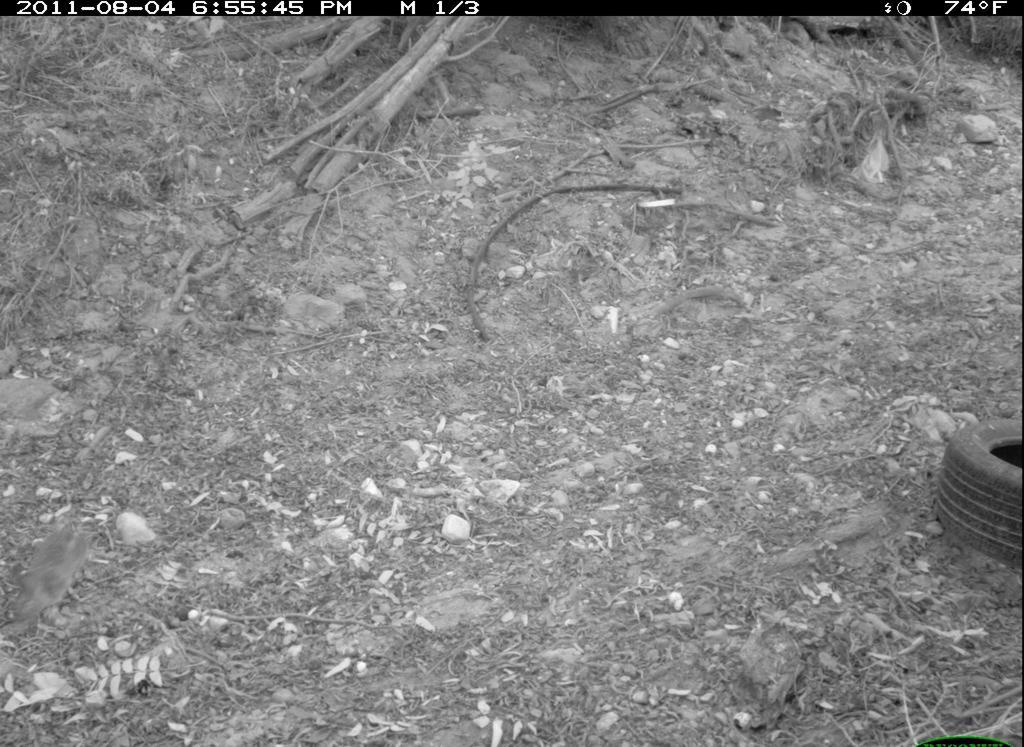rabbit: (12, 511, 95, 637)
